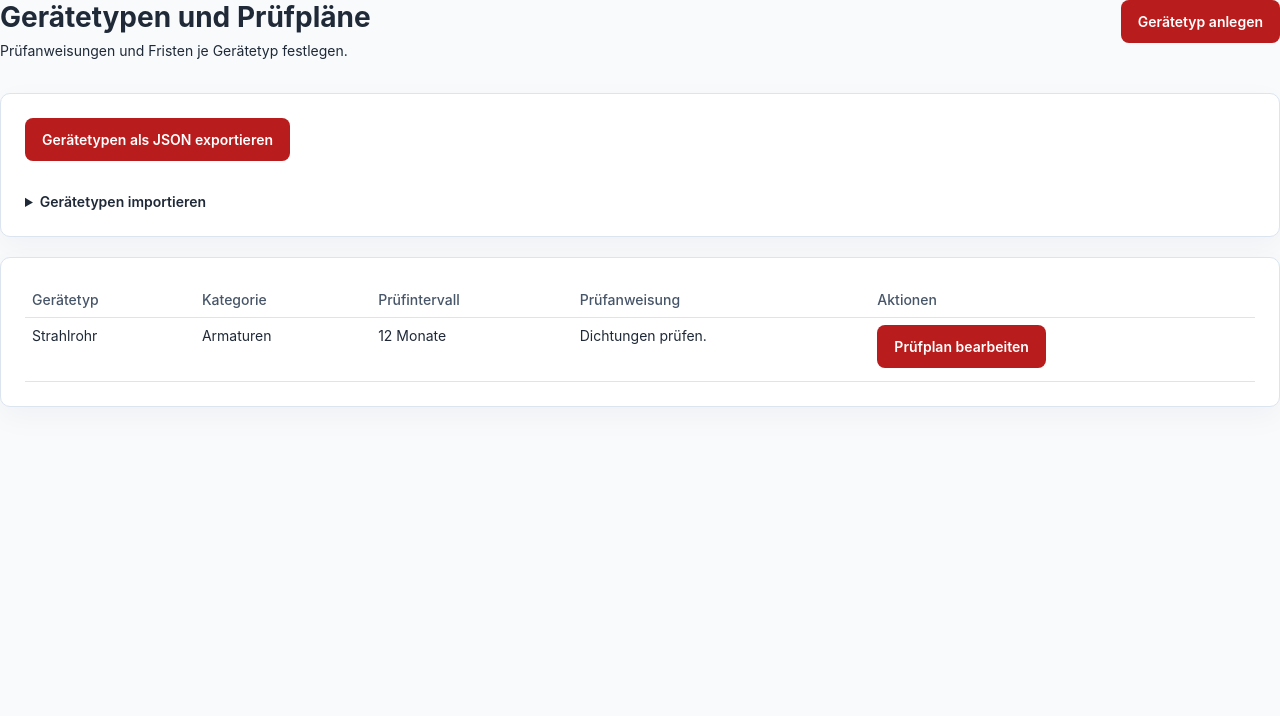
Test: creates a type with category, instruction and monthly interval on its own page
The image size is (1280, 716).
Expected: the text "Strahlrohr" is shown, [25,318,195,382]
Step 1. Click the button "Gerätetyp anlegen" → click(1200, 22), box [1121,0,1279,43]
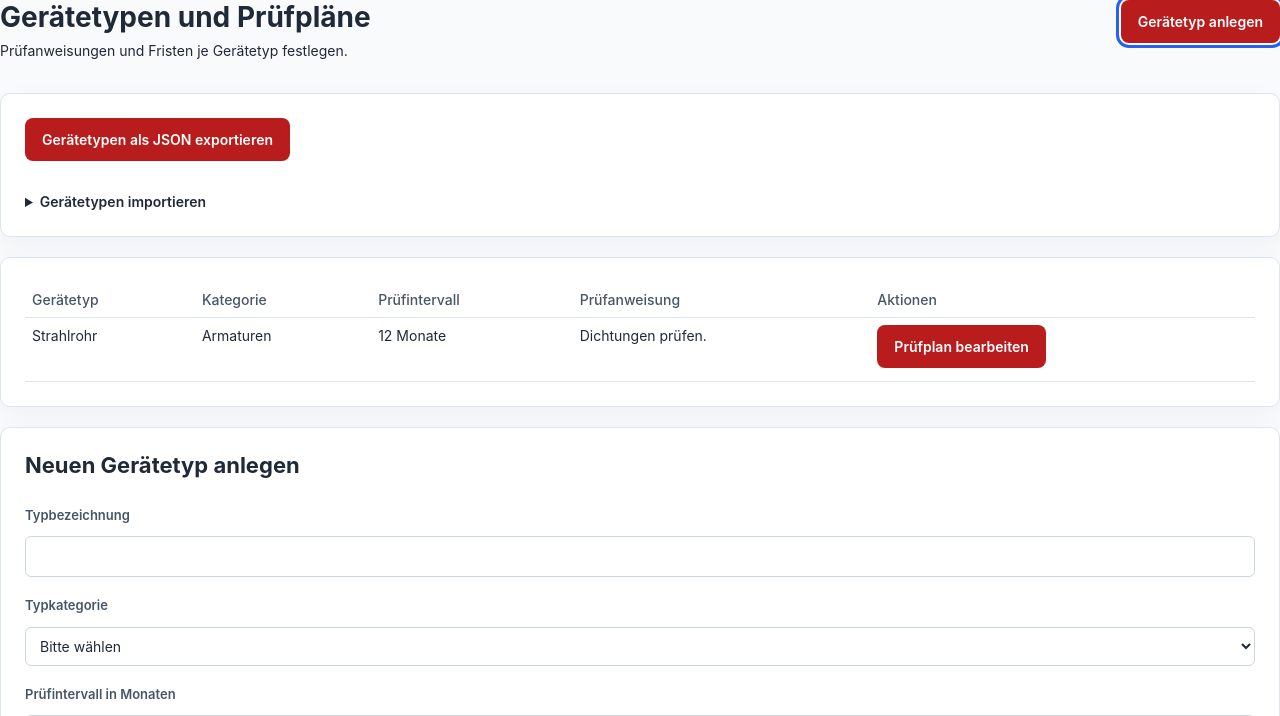
Step 2. Type "Scheinwerfer" into the field labelled "Typbezeichnung" → (640, 556), box [25,536,1255,577]
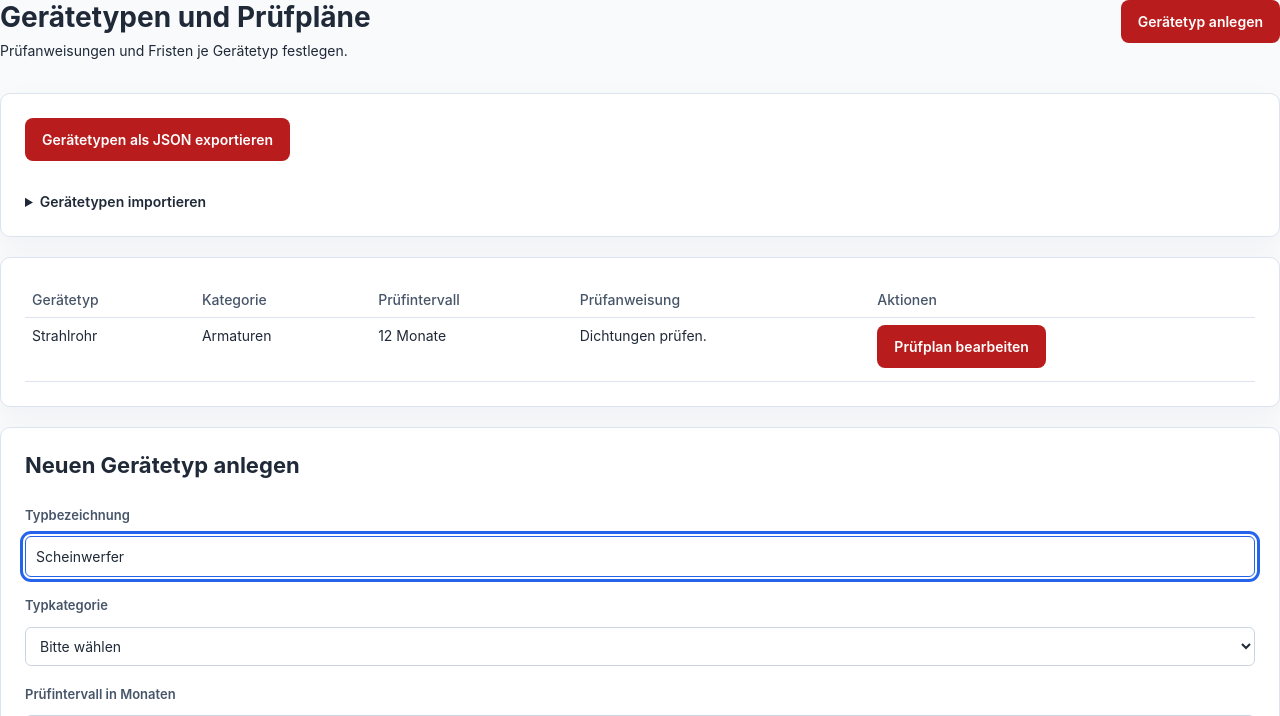
Step 3. Select "Armaturen" in the dropdown labelled "Typkategorie" → (640, 646), box [25,626,1255,666]
(page scrolled)
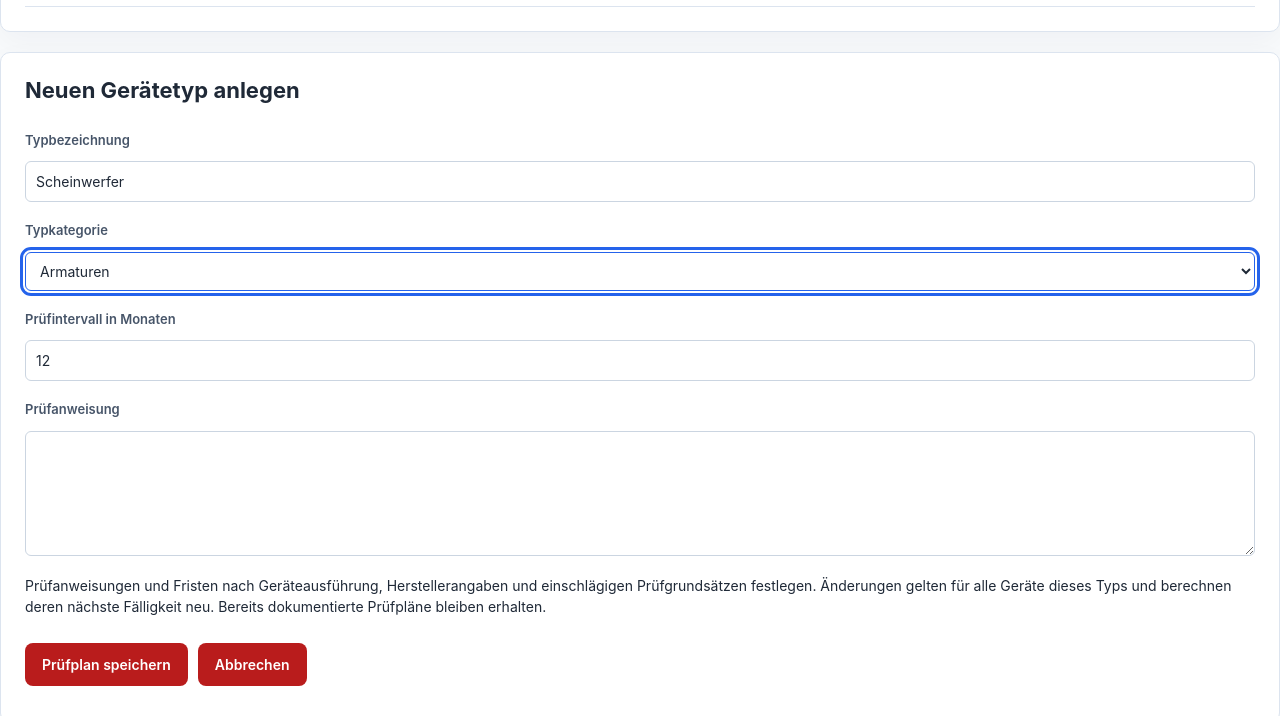
Step 4. Replace the text in the number field labelled "Prüfintervall in Monaten" with "6" → (640, 360), box [25,340,1255,381]
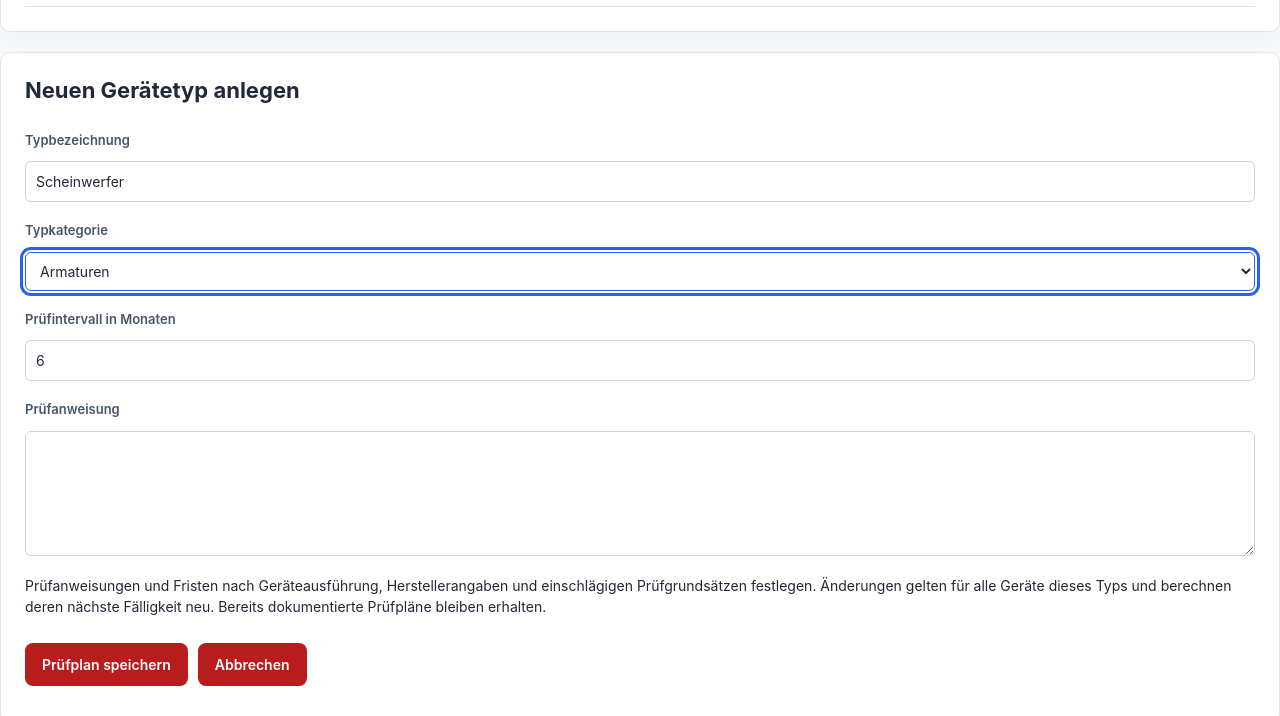
Step 5. Type "Gehäuse und Funktion prüfen." into the text box labelled "Prüfanweisung" → (640, 493), box [25,430,1255,556]
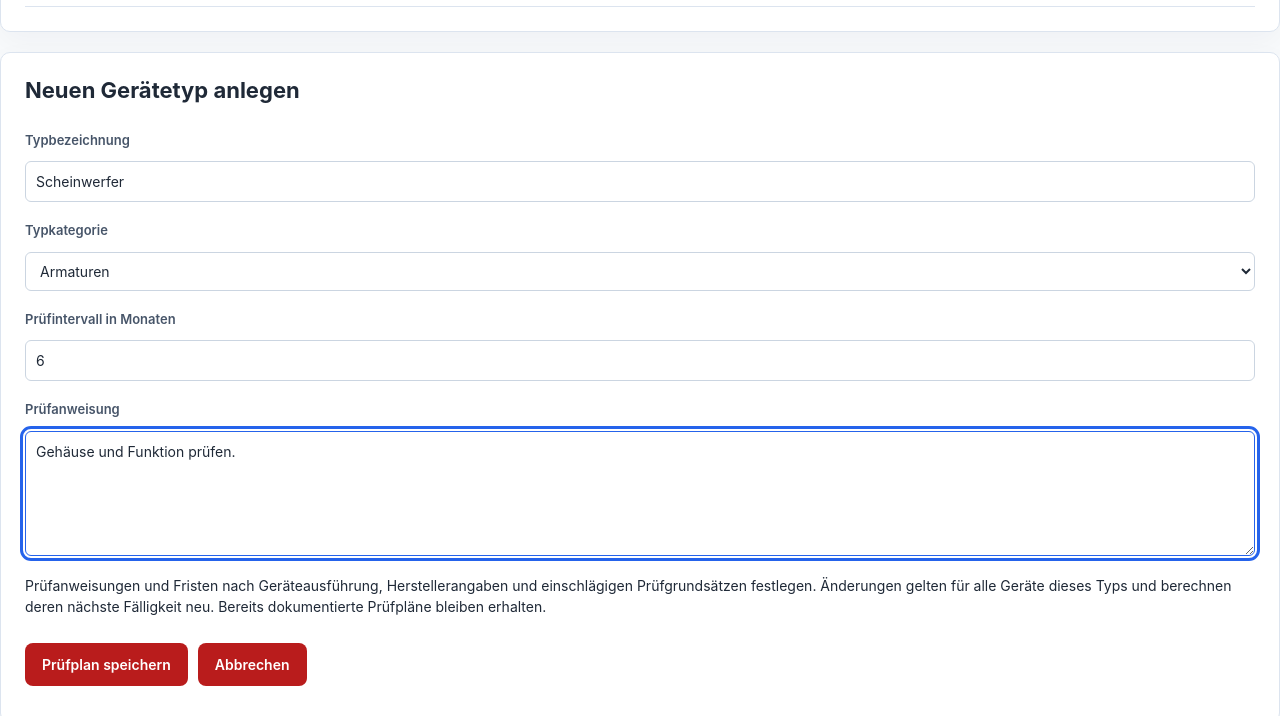
Step 6. Click the button "Prüfplan speichern" → click(106, 664), box [25,642,188,686]
(page scrolled)
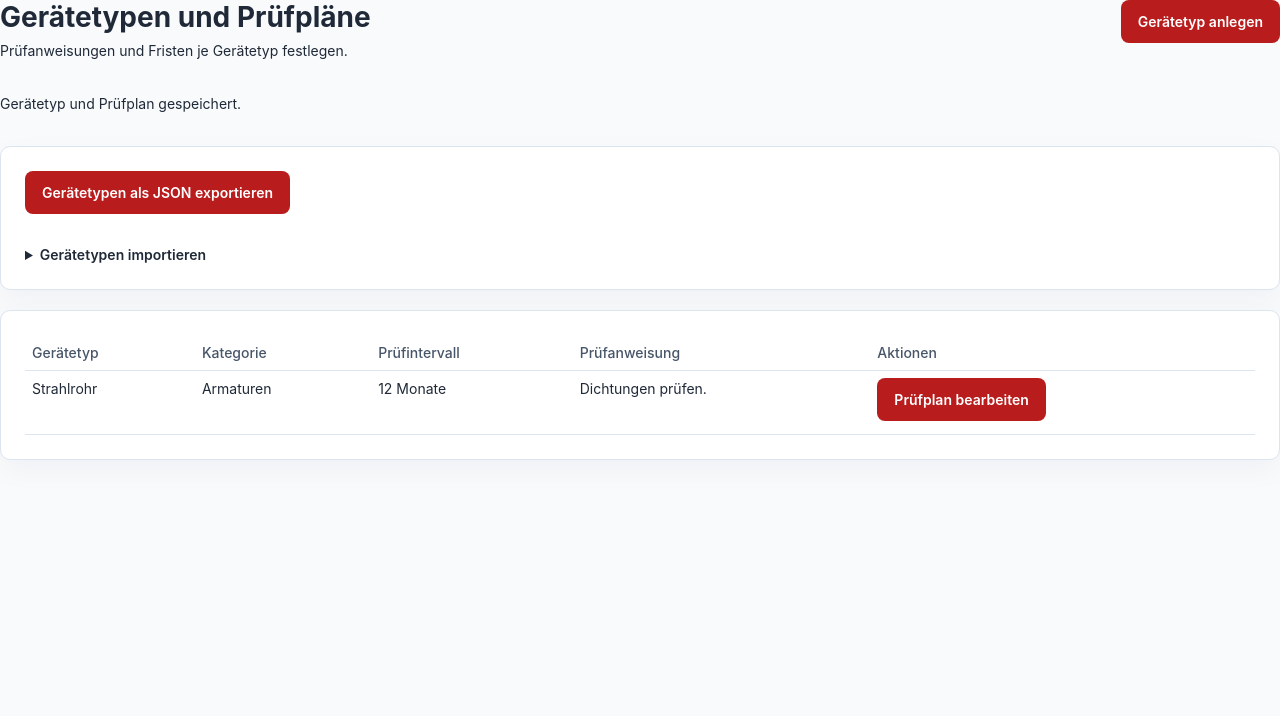
Expected: the message reads "Gerätetyp und Prüfplan gespeichert.", [0,95,241,112]
